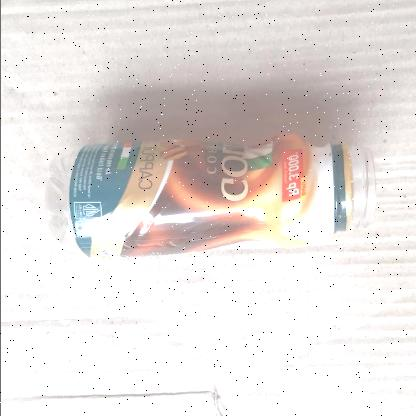Plastic Bottle: (41, 131, 377, 259)
